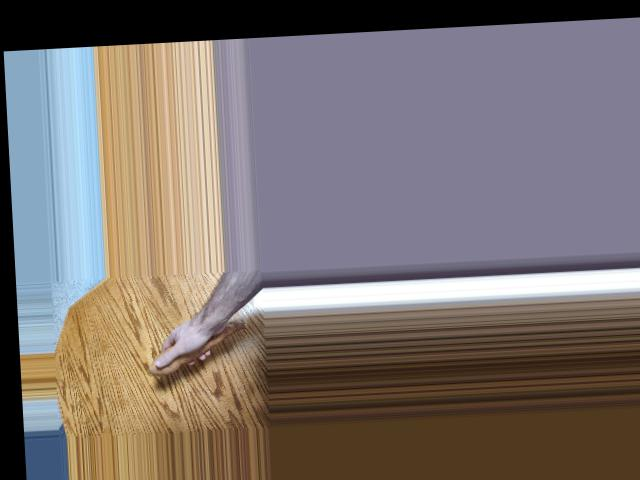sweet_potato: (145, 315, 255, 379)
